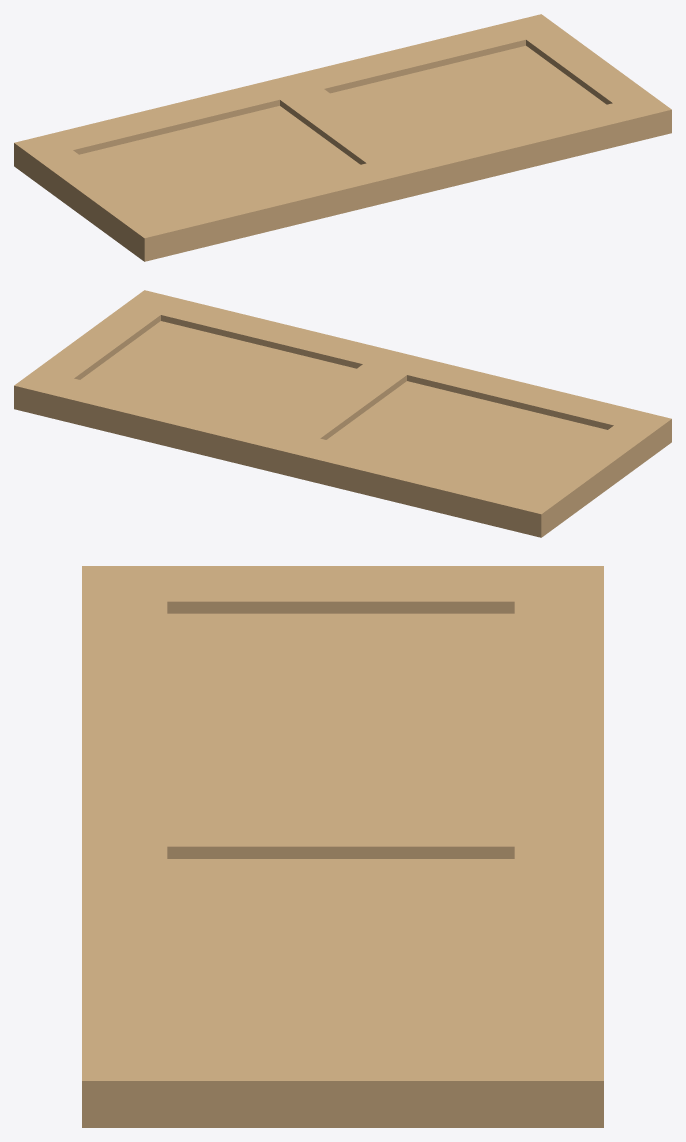
Rendered from LootboxLid.fbx.
3 renders of one model, top to bottom at view 1: azimuth 30°, elevation 25°; view 2: azimuth 150°, elevation 25°; view 3: azimuth 270°, elevation 25°, orthographic. The views are drawn at different scales.
Visible parts, largest first — view 1: box_lid_mesh:lid_mesh; view 2: box_lid_mesh:lid_mesh; view 3: box_lid_mesh:lid_mesh.
Part boxes in pixels (box(x1,y1,x2,y2)): box_lid_mesh:lid_mesh: box(14, 14, 671, 261); box_lid_mesh:lid_mesh: box(14, 290, 671, 537); box_lid_mesh:lid_mesh: box(82, 566, 603, 1127).
Bounding box in the file's own units: 13.99 × 0.5967 × 6.
